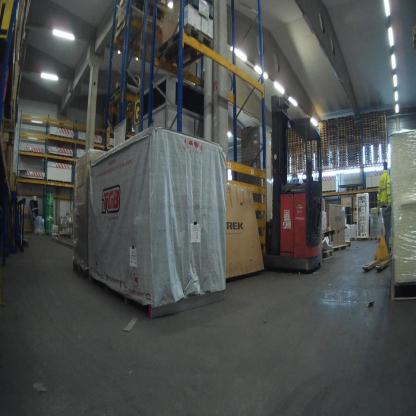forklift: (263, 94, 322, 274)
pallet: (156, 22, 214, 73), (390, 277, 416, 301), (109, 87, 140, 106), (73, 261, 90, 277), (330, 244, 347, 253), (321, 249, 334, 260), (345, 241, 352, 247), (345, 120, 353, 125), (78, 138, 86, 143), (34, 177, 44, 181), (378, 120, 387, 124), (63, 181, 72, 185), (370, 236, 378, 240), (370, 121, 378, 125), (354, 141, 362, 145), (378, 116, 386, 120), (303, 141, 311, 145), (50, 133, 58, 137), (94, 142, 102, 146), (49, 152, 57, 156), (57, 154, 65, 158), (380, 134, 387, 138), (371, 126, 378, 130), (355, 144, 362, 148), (354, 138, 361, 142), (354, 133, 361, 137), (354, 128, 361, 132), (346, 135, 353, 139), (346, 132, 353, 136), (346, 130, 353, 134), (346, 125, 353, 129), (346, 123, 353, 127), (365, 158, 372, 162), (337, 127, 346, 130), (337, 124, 346, 127), (328, 145, 337, 148), (328, 143, 337, 146), (57, 135, 66, 138), (379, 131, 387, 134), (379, 129, 387, 132), (379, 126, 387, 129), (379, 123, 387, 126), (371, 137, 379, 140), (371, 132, 379, 135), (371, 129, 379, 132), (370, 119, 378, 122), (363, 138, 371, 141), (363, 133, 371, 136), (363, 128, 371, 131), (362, 123, 370, 126), (362, 118, 370, 121), (338, 139, 346, 142), (370, 117, 378, 120), (370, 114, 378, 117), (338, 137, 346, 140), (338, 132, 346, 135), (337, 122, 345, 125), (328, 138, 336, 141), (328, 135, 336, 138), (328, 133, 336, 136), (328, 128, 336, 131), (328, 126, 336, 129), (328, 124, 336, 127), (328, 121, 336, 124), (303, 146, 311, 149), (303, 144, 311, 147), (295, 146, 303, 149), (65, 155, 73, 158), (55, 180, 63, 183), (47, 179, 55, 182), (379, 119, 386, 122), (372, 139, 379, 142), (371, 124, 378, 127), (354, 136, 361, 139), (354, 131, 361, 134), (346, 128, 353, 131), (320, 135, 327, 138), (320, 132, 327, 135), (304, 154, 311, 157), (304, 152, 311, 155), (304, 149, 311, 152), (295, 144, 302, 147), (295, 141, 302, 144), (295, 139, 302, 142), (288, 154, 295, 157), (288, 149, 295, 152), (288, 136, 295, 139), (66, 137, 73, 140), (337, 130, 346, 132), (328, 141, 337, 143), (321, 147, 327, 150), (321, 144, 327, 147), (321, 137, 327, 140), (320, 125, 326, 128), (304, 159, 310, 162), (288, 145, 294, 148), (288, 138, 294, 141), (288, 134, 294, 137), (365, 153, 371, 156), (365, 150, 371, 153), (365, 145, 371, 148), (373, 186, 379, 189), (46, 232, 52, 235), (109, 145, 115, 148), (371, 135, 379, 137), (363, 136, 371, 138), (363, 131, 371, 133), (362, 121, 370, 123), (338, 135, 346, 137), (337, 120, 345, 122), (328, 131, 336, 133), (295, 149, 303, 151), (362, 116, 370, 118), (363, 141, 371, 143), (71, 235, 74, 240), (312, 148, 317, 151), (312, 141, 317, 144), (380, 139, 387, 141), (380, 137, 387, 139), (363, 126, 370, 128), (304, 157, 311, 159), (296, 151, 303, 153), (288, 152, 295, 154), (288, 148, 295, 150), (288, 143, 295, 145), (378, 114, 385, 116), (365, 162, 372, 164), (364, 143, 371, 145), (329, 190, 336, 192), (366, 187, 373, 189), (321, 142, 327, 144), (321, 140, 327, 142), (320, 130, 326, 132), (320, 128, 326, 130), (320, 123, 326, 125), (320, 121, 326, 123), (295, 137, 301, 139), (288, 141, 294, 143), (288, 132, 294, 134), (288, 130, 294, 132), (365, 156, 371, 158), (365, 148, 371, 150), (312, 146, 317, 148), (312, 144, 317, 146), (295, 135, 299, 137), (322, 191, 329, 192)
pallet_truck: (362, 203, 391, 273)
